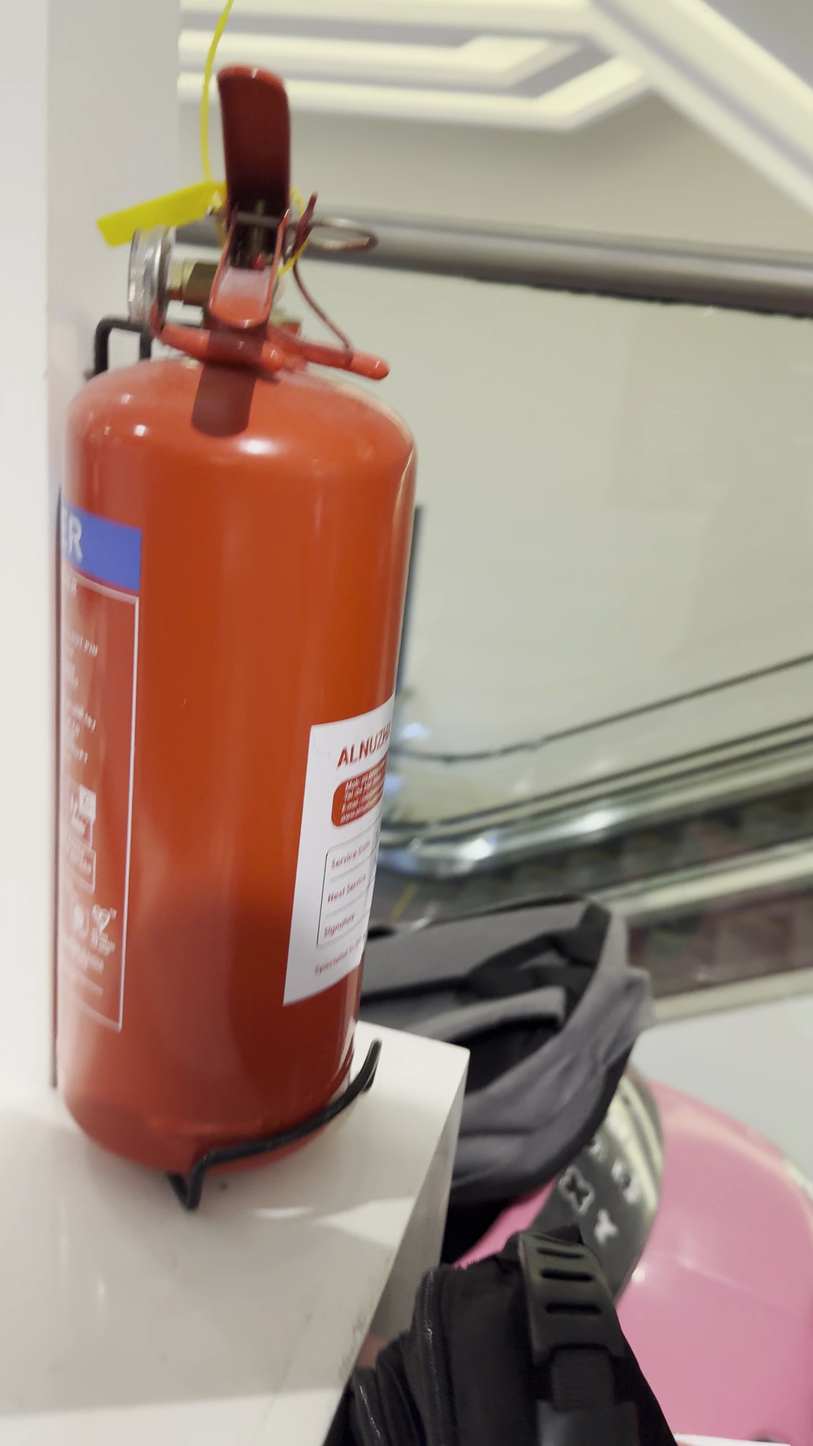fire_extinguisher: (52, 41, 419, 1209)
